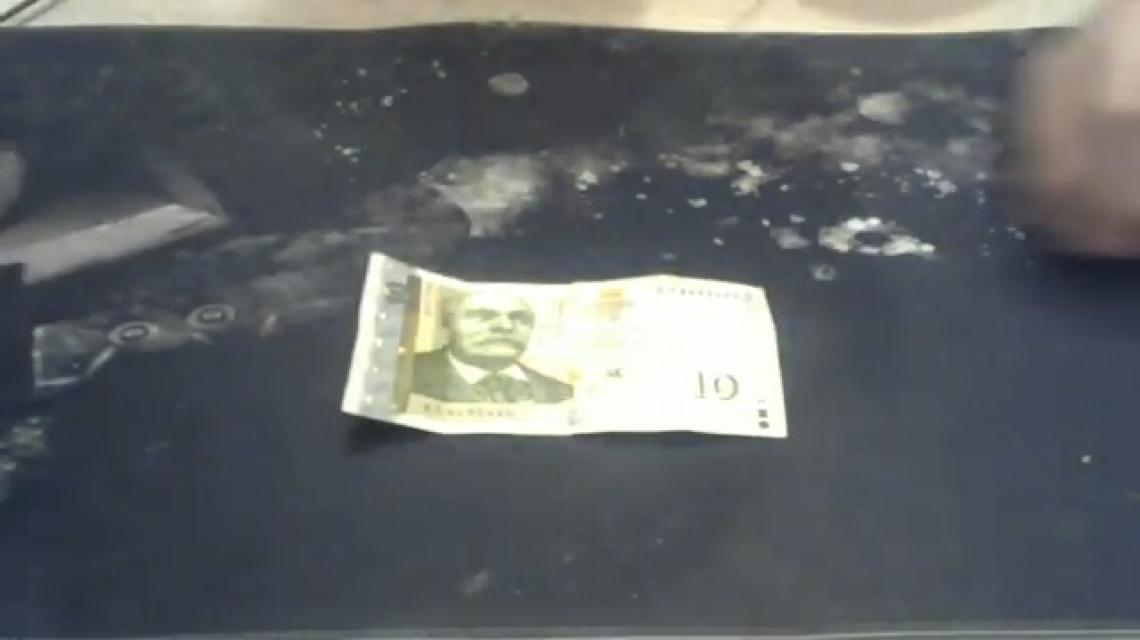10leva: (338, 254, 791, 443)
